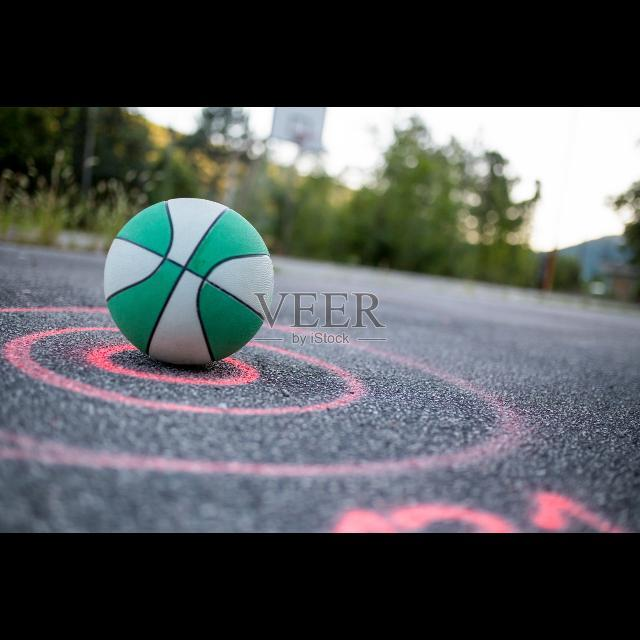basketball: (106, 199, 274, 365)
